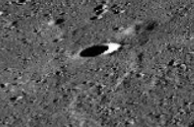crater: (63, 32, 141, 93)
